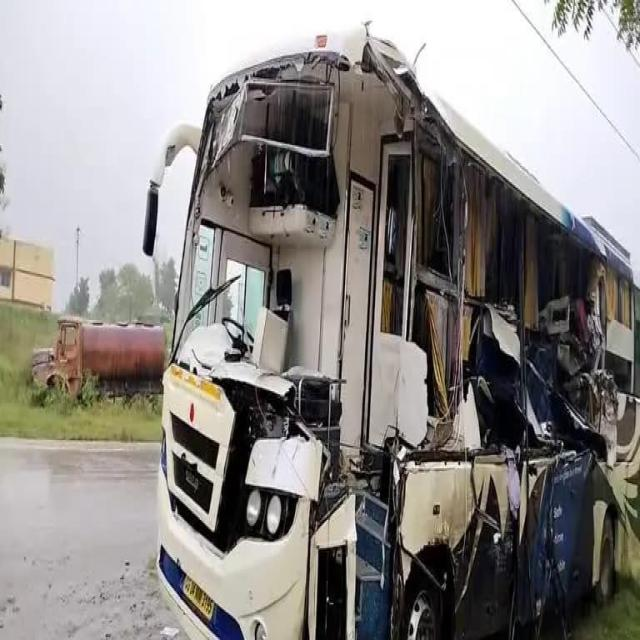accident: (144, 33, 640, 638)
